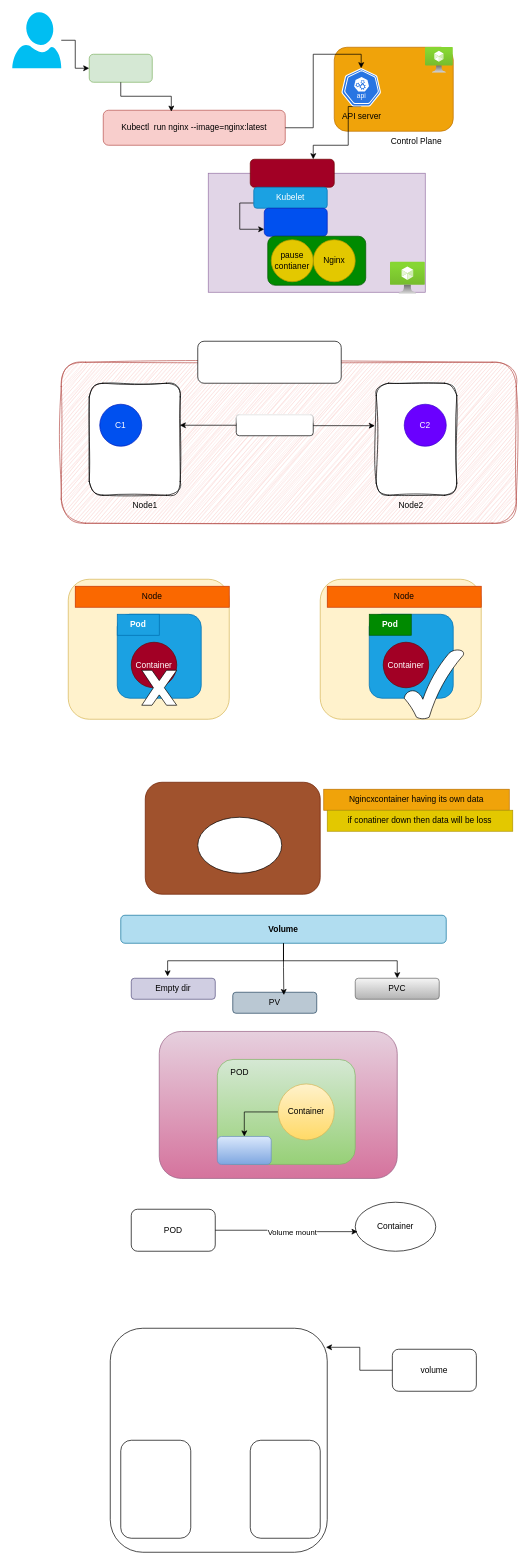
This 529x1565 diagram has some shape labels left out. Each missing label, with the centre of its shape:
"Calico network" goes at point 274,425.
"Cluster is configured on AZURE CNI OVERLAY" goes at point 269,362.
"Container Runtime" goes at point 295,222.
"Emptydir" goes at point 244,1150.
"Kubectl" goes at point 120,68.
"nginx-container" goes at point 239,845.
"Worker Node" goes at point 292,173.
